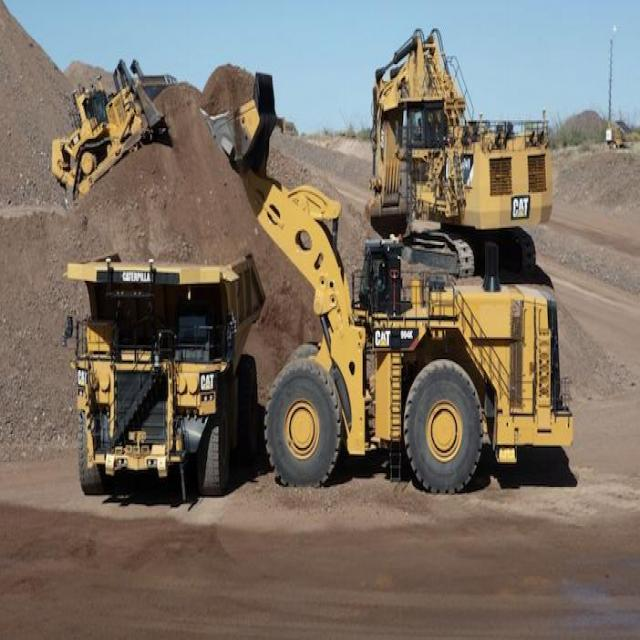Bulldozer: (34, 50, 191, 211)
Dump Truck: (45, 223, 256, 528)
Loader: (196, 30, 576, 499)
